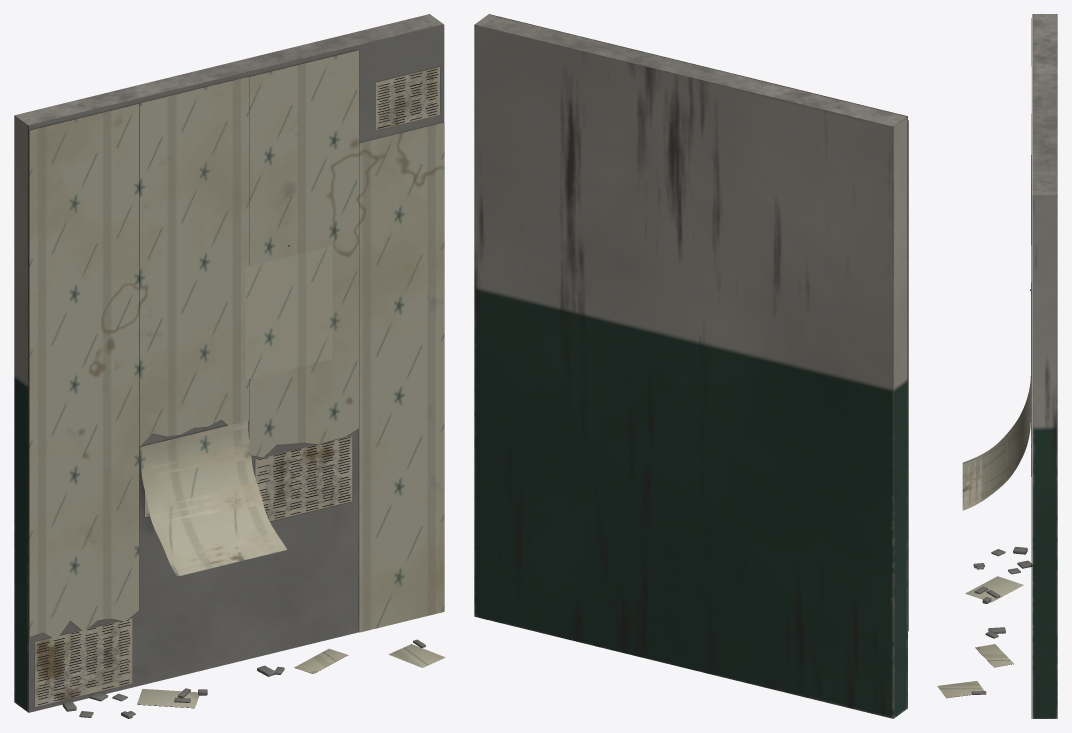
Rendered from SM_Wall_Wallpaper_A.fbx.
The picture shows the model from 3 angles, left to right: view 1: azimuth 30°, elevation 25°; view 2: azimuth 150°, elevation 25°; view 3: azimuth 270°, elevation 25°; orthographic projection. The views are drawn at different scales.
Visible parts, largest first — view 1: SM_Wall_Wallpaper_A; view 2: SM_Wall_Wallpaper_A; view 3: SM_Wall_Wallpaper_A.
Part boxes in pixels (left/top/right/bottom): SM_Wall_Wallpaper_A: left=14, top=14, right=445, bottom=718; SM_Wall_Wallpaper_A: left=474, top=14, right=908, bottom=718; SM_Wall_Wallpaper_A: left=937, top=14, right=1057, bottom=718.
Size of the model in its own units: 2 by 2.7 by 0.5616.
Materials: 1 (1 with a texture image).
